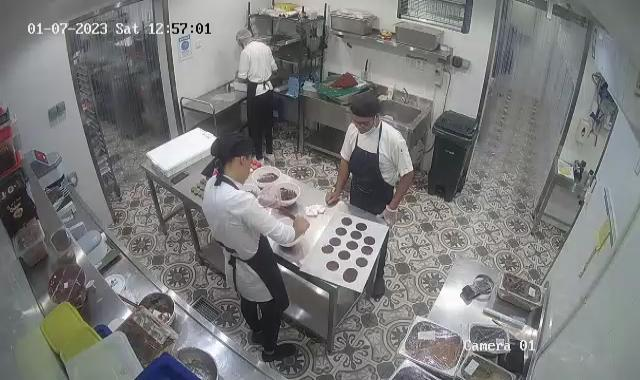hairnet: (234, 26, 254, 50)
no_hairnet: (210, 130, 254, 165), (346, 93, 382, 123)
